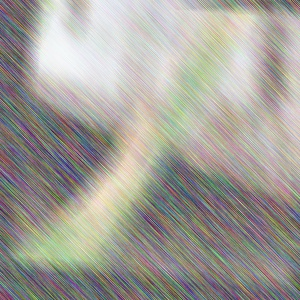Brown_Spot: (225, 0, 277, 35), (212, 13, 236, 44)
